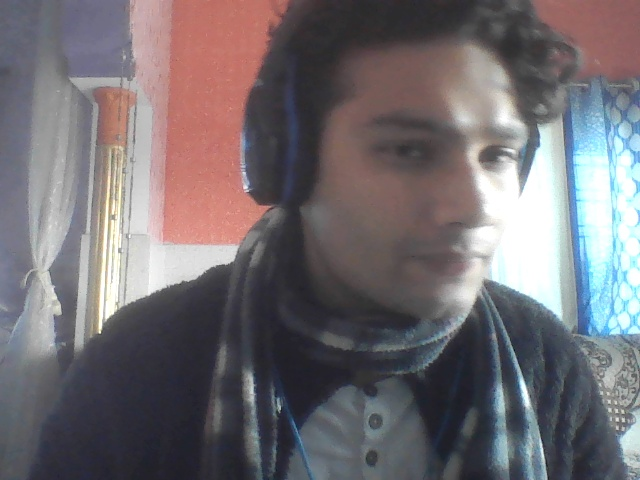real: (269, 0, 543, 389)
